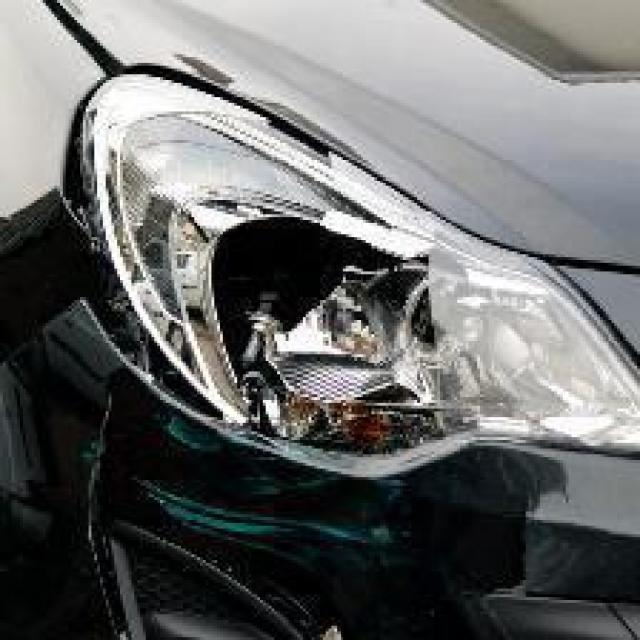damaged: (177, 192, 483, 472)
